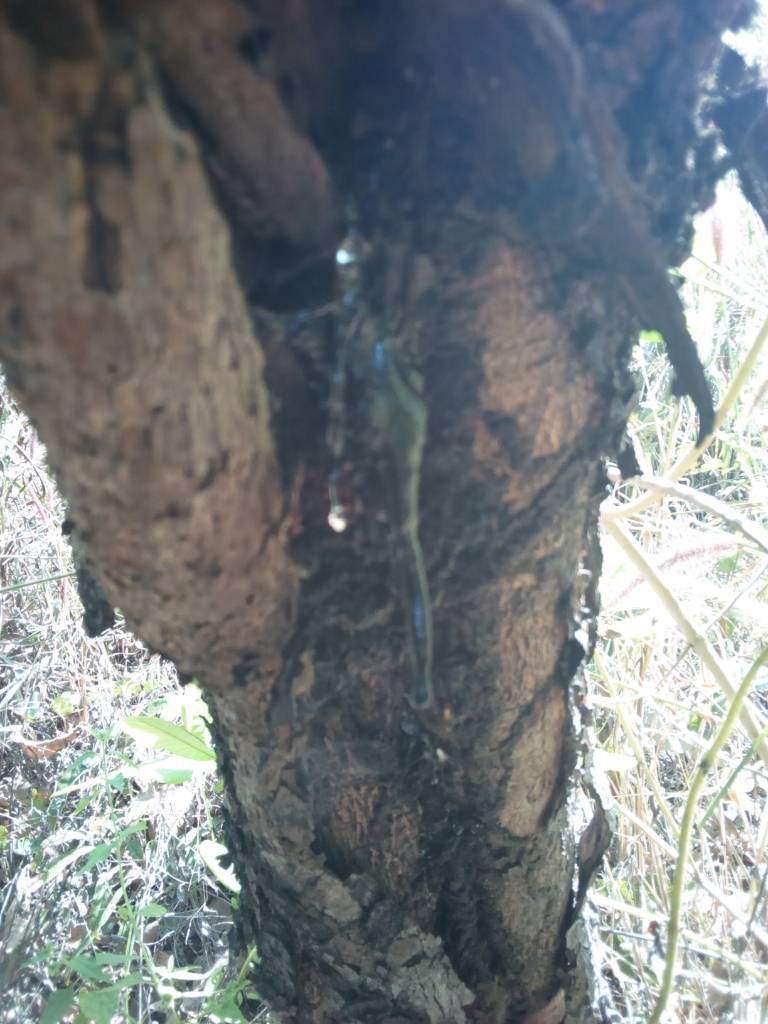Termites: (22, 72, 318, 653), (427, 463, 590, 1007)
